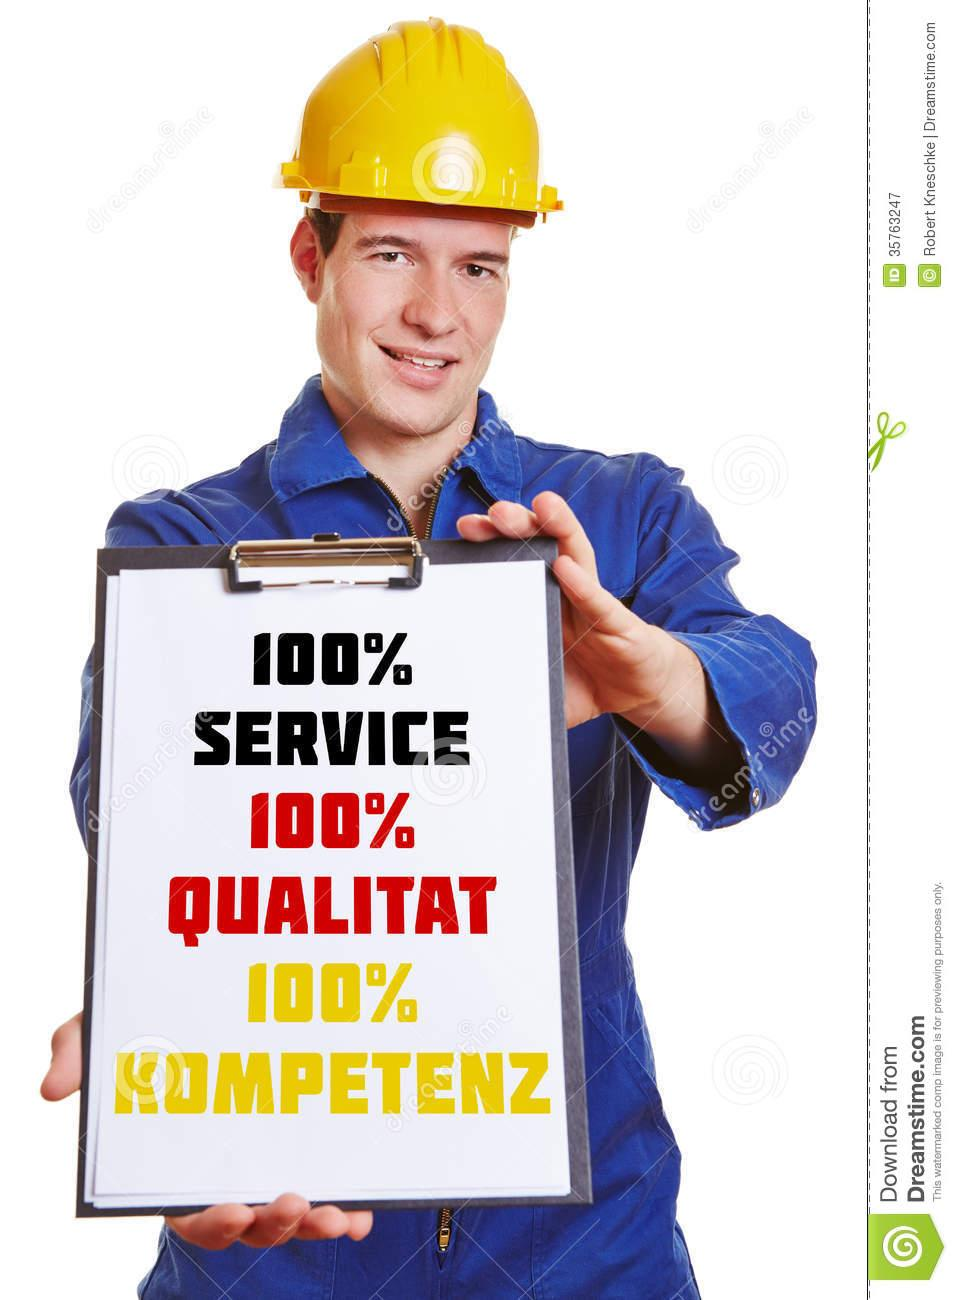helmet: (283, 19, 563, 223)
